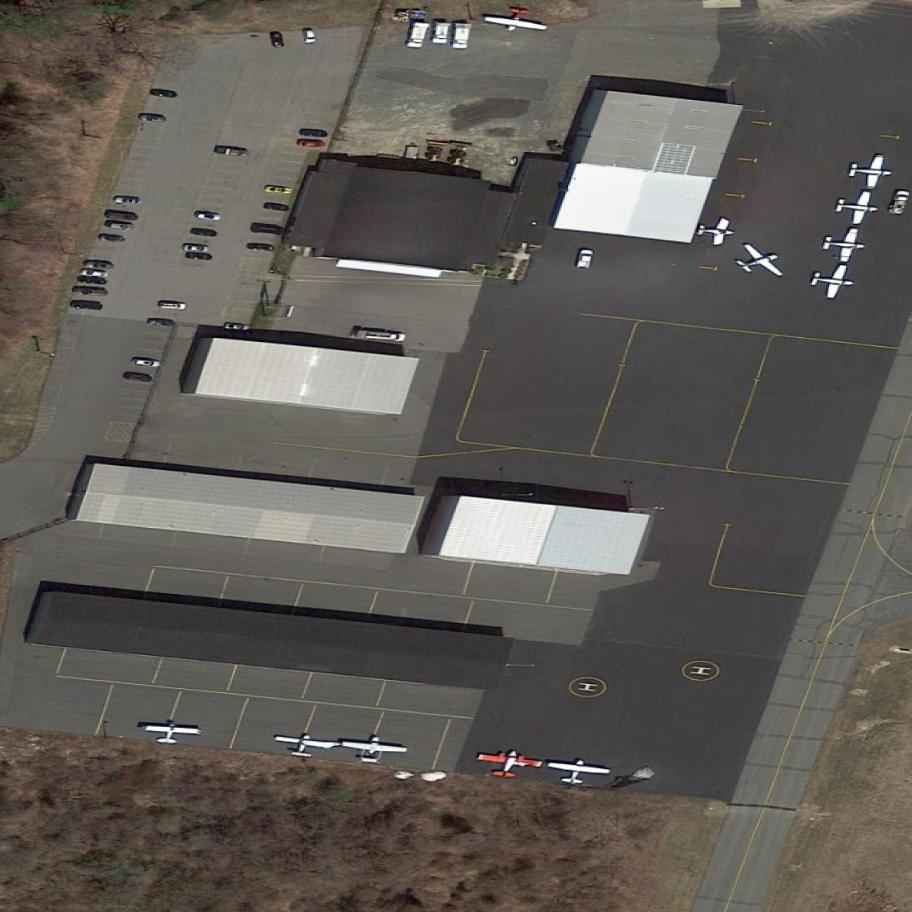large-vehicle: (407, 17, 431, 52), (352, 330, 407, 344), (454, 23, 474, 50), (433, 22, 451, 43)
plane: (723, 226, 797, 298), (473, 746, 547, 782), (480, 3, 556, 37), (338, 732, 411, 767), (269, 730, 344, 762), (542, 756, 614, 789), (808, 261, 861, 304), (820, 225, 871, 266), (831, 189, 883, 227), (848, 152, 897, 191), (140, 720, 203, 745), (697, 216, 739, 247)
small-vehicle: (891, 187, 912, 217), (212, 145, 250, 160), (250, 222, 287, 235), (577, 247, 596, 271), (123, 371, 157, 384), (104, 211, 141, 222), (149, 87, 181, 99), (97, 233, 131, 244), (104, 220, 135, 232), (297, 127, 330, 138), (264, 185, 298, 195), (269, 29, 286, 49), (302, 25, 318, 46), (71, 302, 104, 312), (245, 243, 278, 253), (185, 252, 215, 263), (131, 357, 163, 367), (263, 202, 293, 212), (190, 228, 220, 238), (197, 211, 224, 222), (77, 276, 109, 285), (74, 288, 109, 296), (141, 112, 169, 122), (81, 269, 110, 278), (298, 140, 329, 148), (84, 260, 114, 268), (112, 196, 142, 204), (184, 245, 213, 253), (160, 302, 186, 310), (147, 320, 173, 327), (226, 325, 255, 331)
